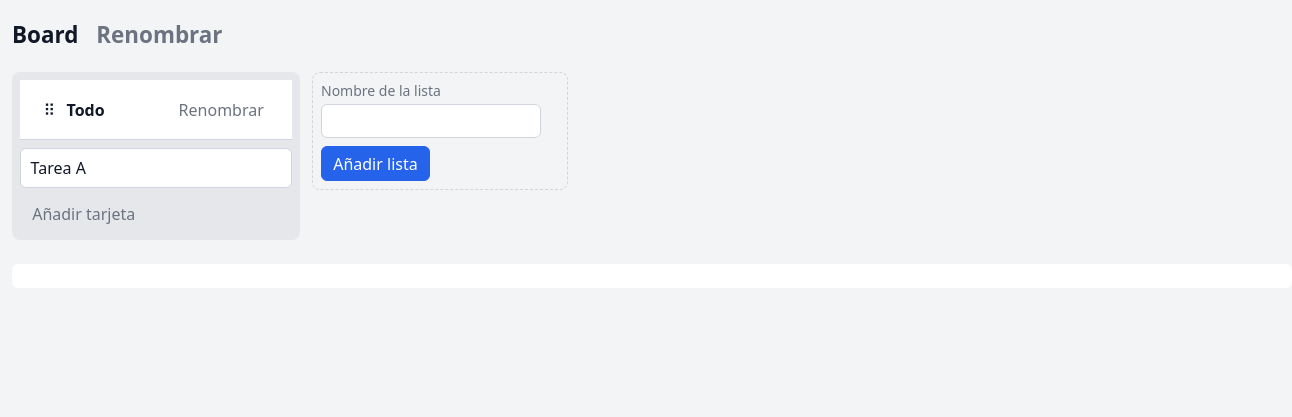
Test: BoardView › crea una tarjeta en una lista
Click the button "Añadir tarjeta" at (84, 214), box [20, 196, 148, 232]
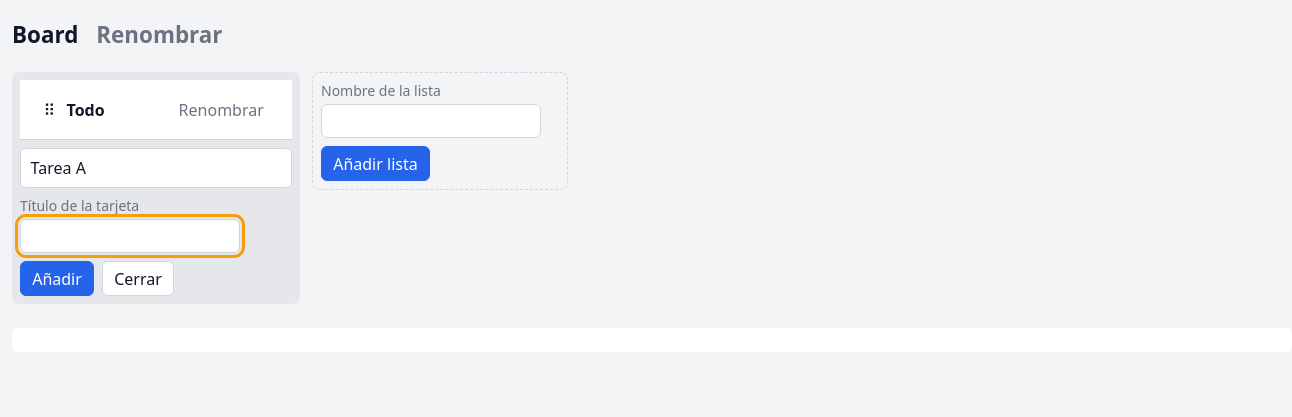
Type "Nueva tarjeta" into the field labelled "Título de la tarjeta" at (130, 236), box [20, 219, 240, 253]
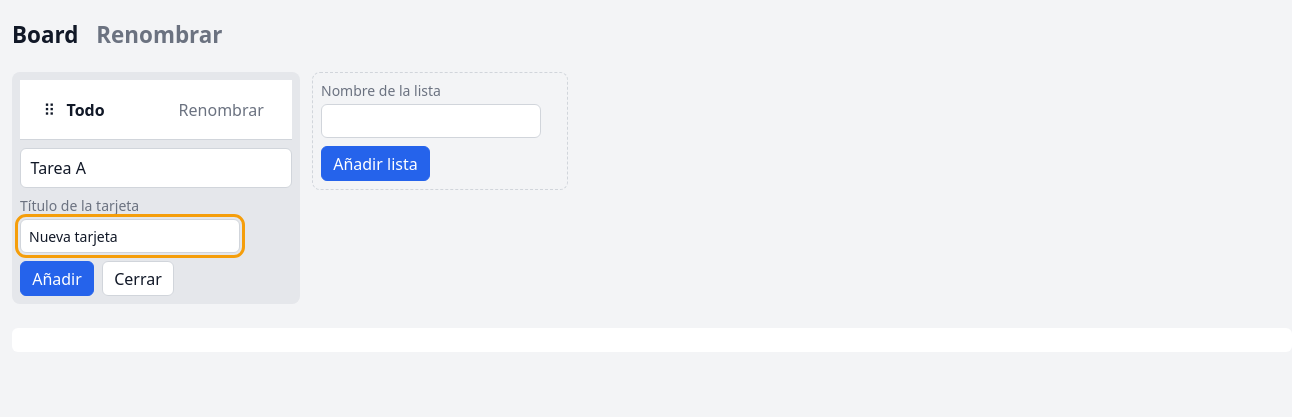
Click the button "Añadir" at (57, 279), box [20, 261, 94, 296]
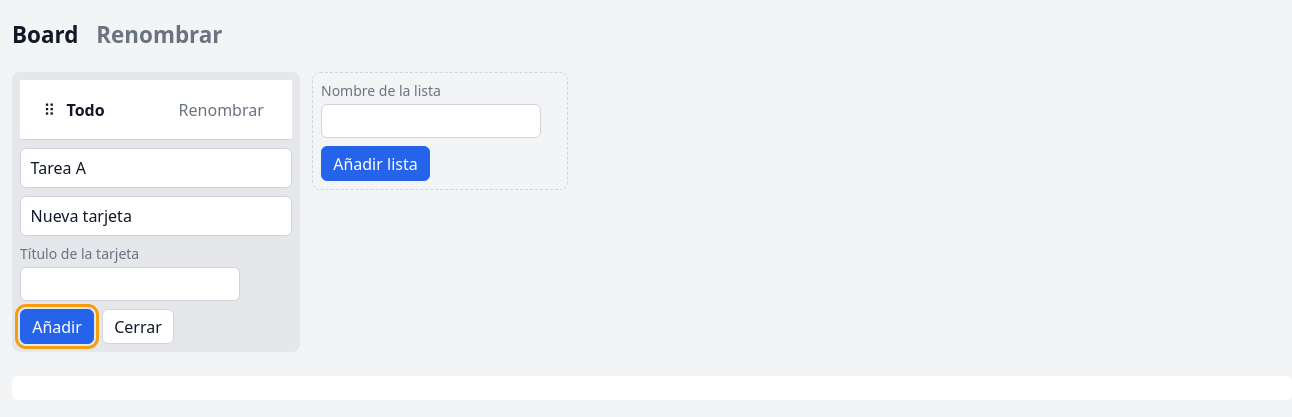
Check: the text "Nueva tarjeta" is shown, box [31, 205, 132, 227]
